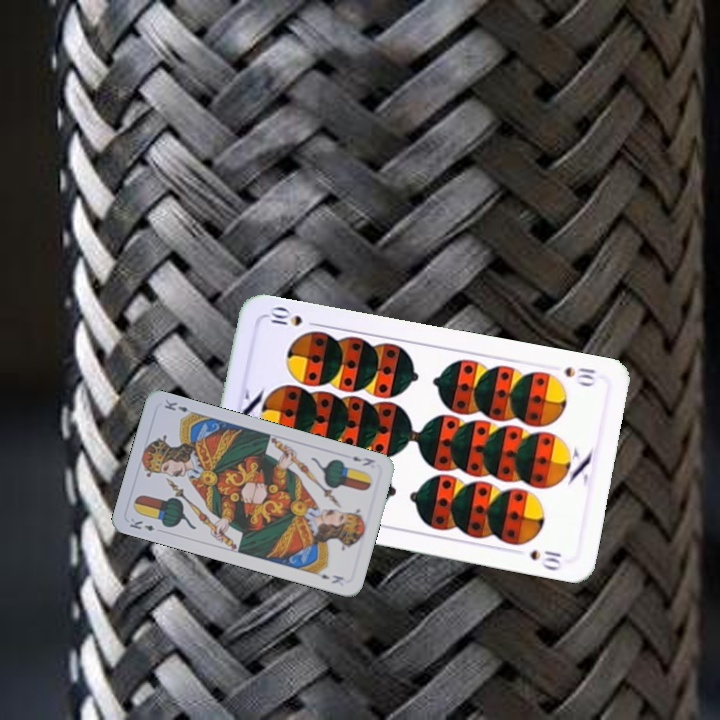EK: (125, 514, 166, 535), (349, 452, 378, 469)
S10: (560, 362, 599, 389)
